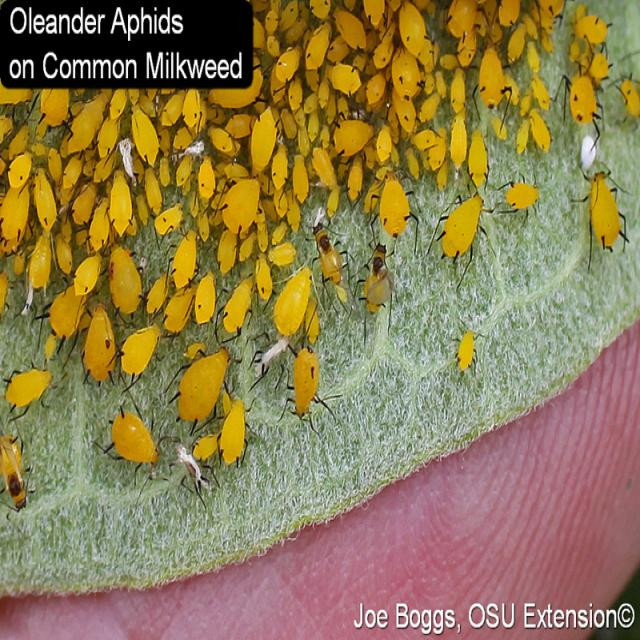Aphid-Grouped-: (254, 1, 620, 296), (3, 89, 331, 403)
Aphid-Grown-: (432, 170, 506, 283), (161, 340, 246, 436), (568, 155, 634, 273), (274, 337, 336, 447), (72, 287, 125, 404), (97, 395, 166, 473), (363, 171, 430, 250), (268, 264, 326, 348), (114, 308, 171, 390), (553, 62, 609, 137), (493, 162, 552, 232), (210, 386, 257, 472), (100, 248, 150, 328), (326, 101, 384, 166), (4, 358, 57, 426), (22, 224, 63, 308), (474, 44, 517, 118), (106, 164, 139, 242), (451, 312, 489, 374), (443, 103, 471, 179)
